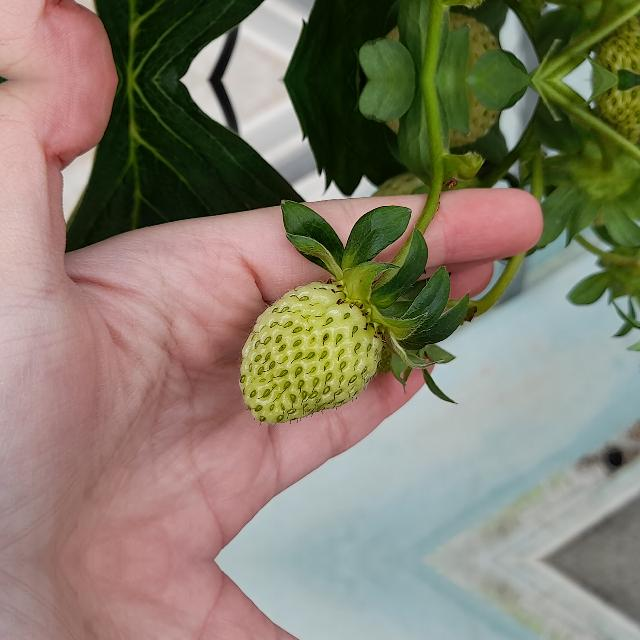Health_25: (239, 281, 383, 424)
